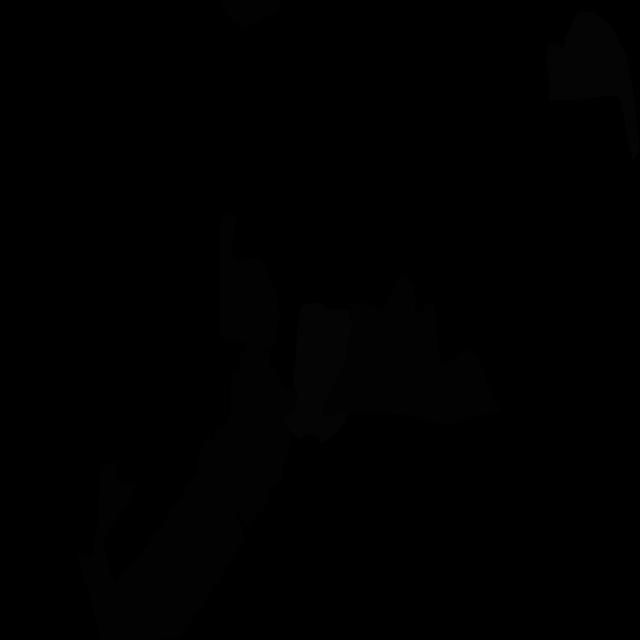cardboard: (78, 436, 245, 640), (322, 276, 501, 425), (210, 344, 297, 527), (220, 212, 280, 348), (221, 0, 281, 28)
soft_plastic: (546, 12, 640, 160), (283, 303, 352, 443)
